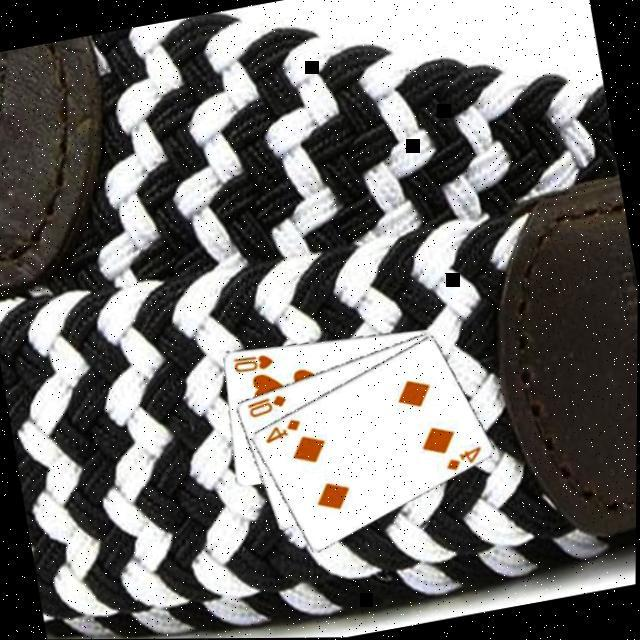10D: (244, 389, 292, 420)
10H: (232, 346, 278, 376)
4D: (261, 413, 307, 446), (442, 442, 488, 474)
